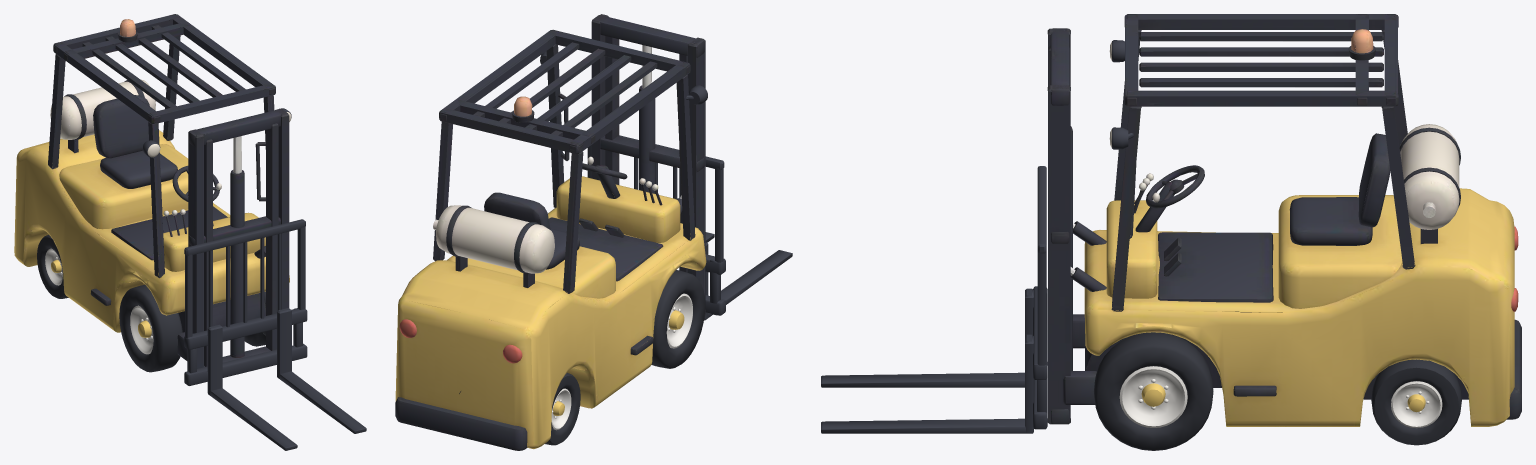
File: forklift.glb
3 renders of one model, left to right at view 1: azimuth 30°, elevation 25°; view 2: azimuth 150°, elevation 25°; view 3: azimuth 270°, elevation 25°, orthographic. The views are drawn at different scales.
Parts seen in each view (by area): view 1: forklift_body, forklift_fork_carriage, forklift_wheel_fl; view 2: forklift_body, forklift_wheel_fl, forklift_fork_carriage; view 3: forklift_body, forklift_wheel_fl, forklift_fork_carriage.
Boxes of the visible parts, x1,y1,x2,y2 form: forklift_body: (14, 14, 289, 368); forklift_fork_carriage: (143, 108, 366, 450); forklift_wheel_fl: (37, 235, 265, 372); forklift_body: (395, 14, 706, 450); forklift_wheel_fl: (545, 270, 705, 445); forklift_fork_carriage: (540, 51, 792, 320); forklift_body: (1047, 14, 1521, 426); forklift_wheel_fl: (1094, 332, 1461, 450); forklift_fork_carriage: (821, 40, 1133, 433).
Bounding box in the file's own units: 1.26 × 2.31 × 3.86.
Materials: 6 (1 with a texture image).
